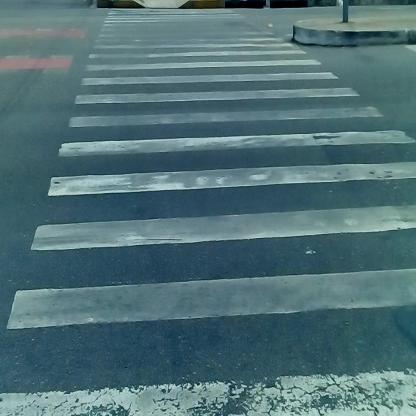crosswalk: (9, 10, 412, 416)
